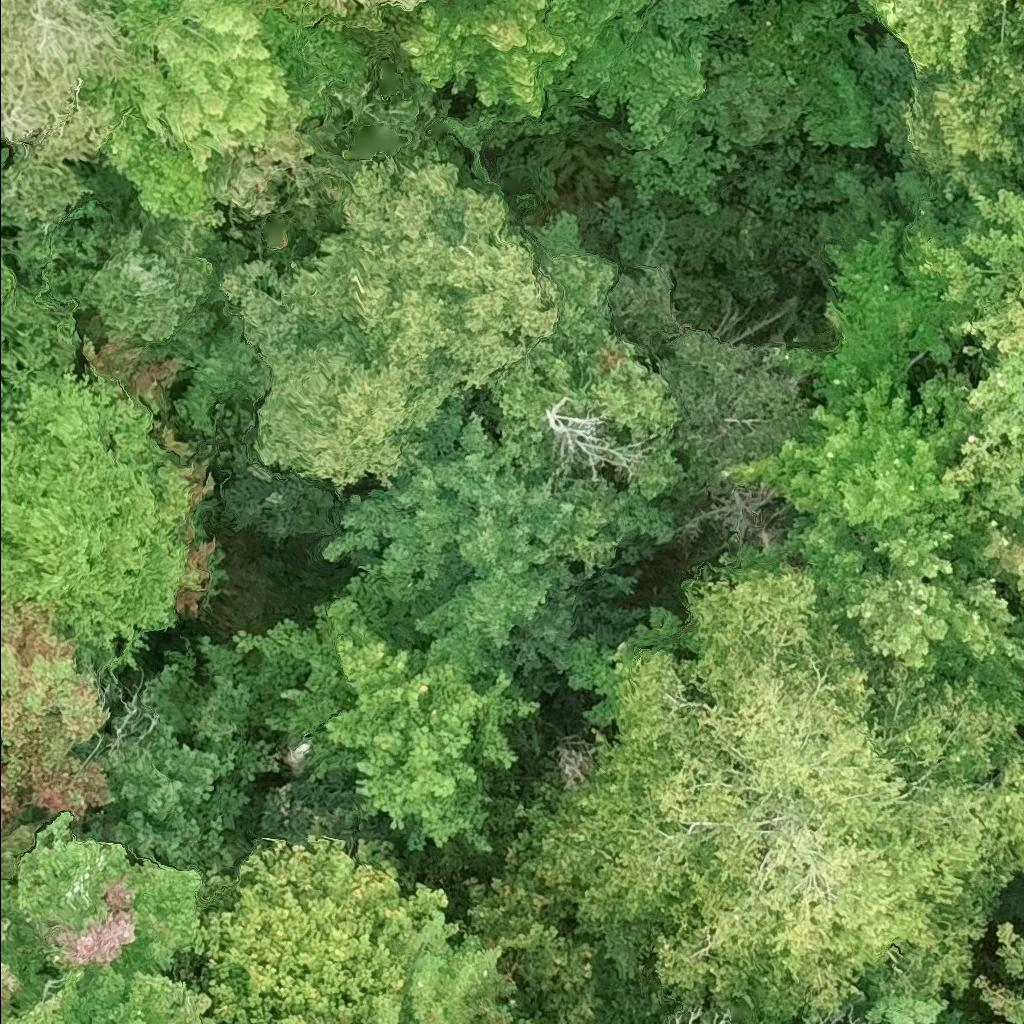crown: (502, 564, 1023, 1023), (217, 145, 560, 490), (719, 363, 1023, 703), (190, 567, 549, 851), (323, 409, 584, 685), (0, 364, 203, 677), (80, 0, 301, 236), (190, 832, 450, 1023), (75, 641, 279, 873), (776, 199, 970, 404), (0, 810, 202, 982), (925, 178, 1023, 488), (398, 0, 651, 120), (49, 204, 254, 352), (0, 592, 117, 834), (902, 1, 1023, 225), (0, 0, 145, 167), (0, 125, 77, 417), (592, 0, 738, 150), (372, 907, 542, 1023), (2, 962, 221, 1023), (862, 0, 1023, 82), (0, 904, 65, 1023), (973, 922, 1023, 1023), (865, 986, 947, 1023), (324, 0, 456, 15)
